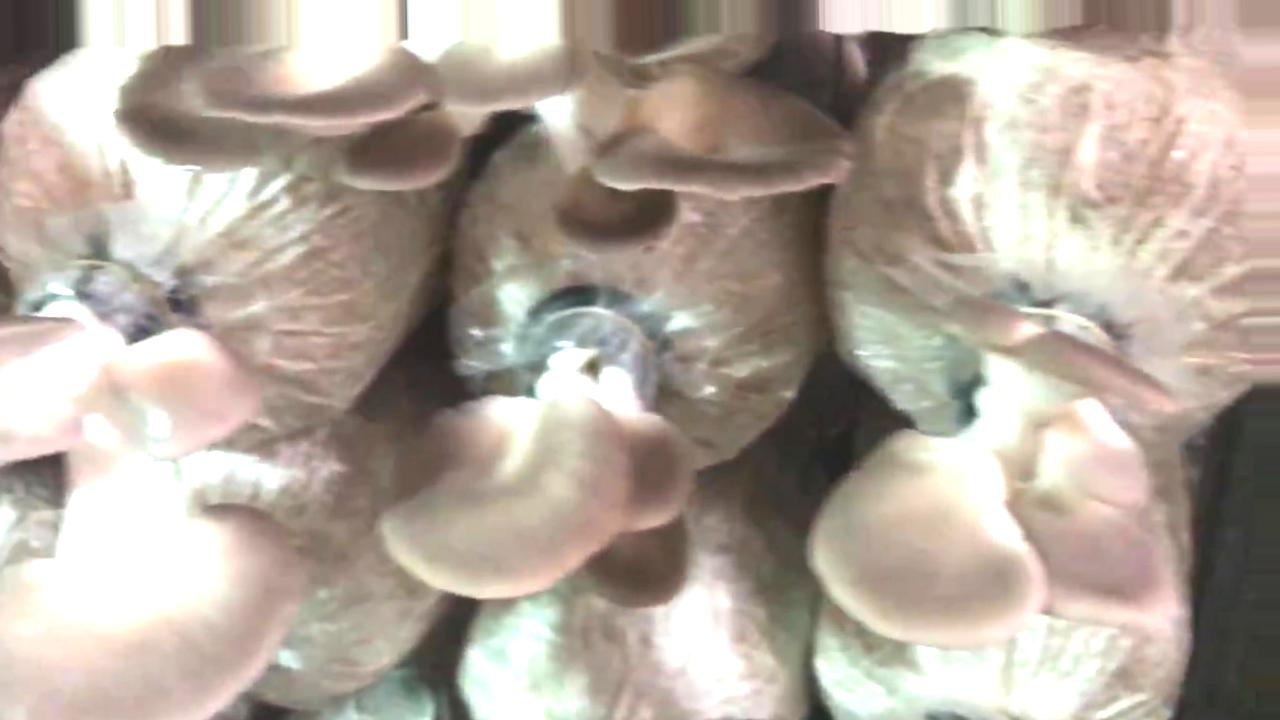nam: (113, 37, 860, 259), (3, 273, 306, 720), (807, 291, 1182, 652), (378, 293, 698, 614)
